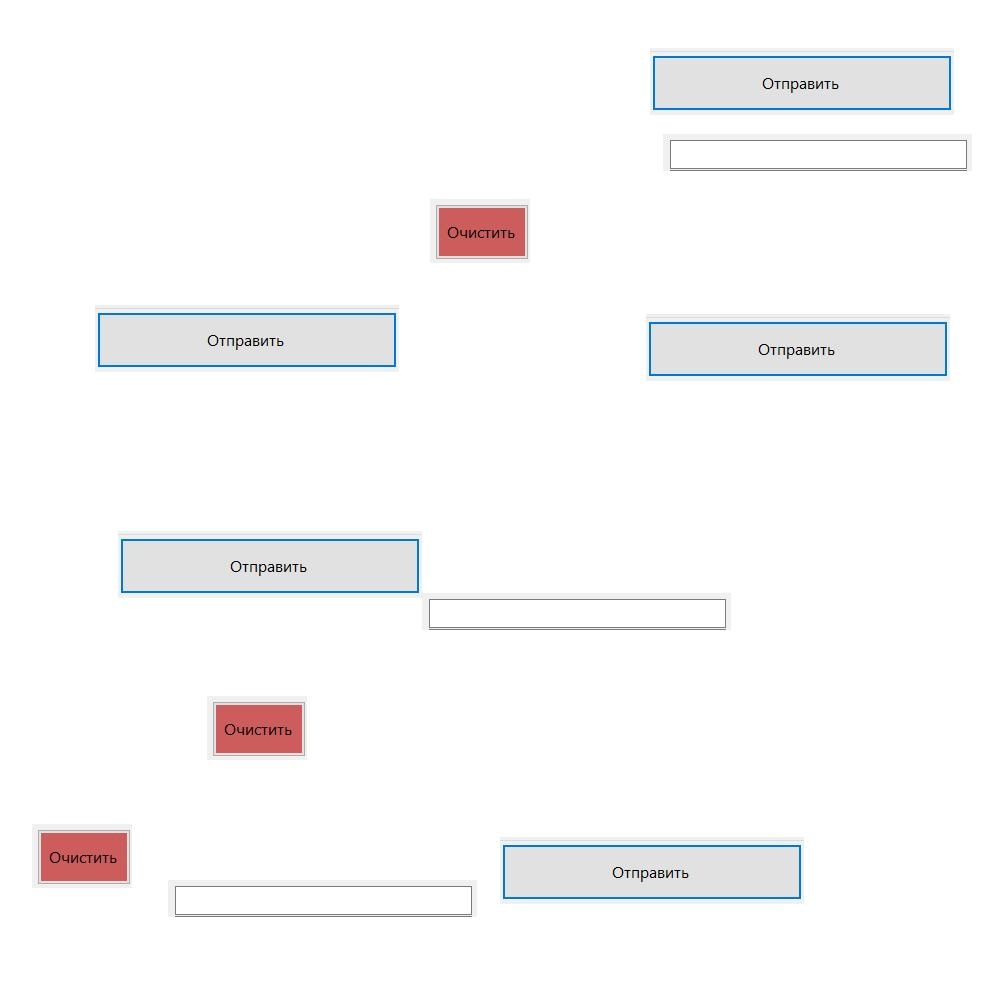Button: (95, 305, 399, 372), (500, 837, 804, 904), (118, 531, 422, 598), (646, 314, 950, 381), (650, 48, 954, 115), (207, 696, 307, 760), (32, 824, 132, 888), (430, 199, 530, 263)
EditText-: (422, 593, 731, 630), (663, 134, 972, 171), (168, 880, 477, 917)
